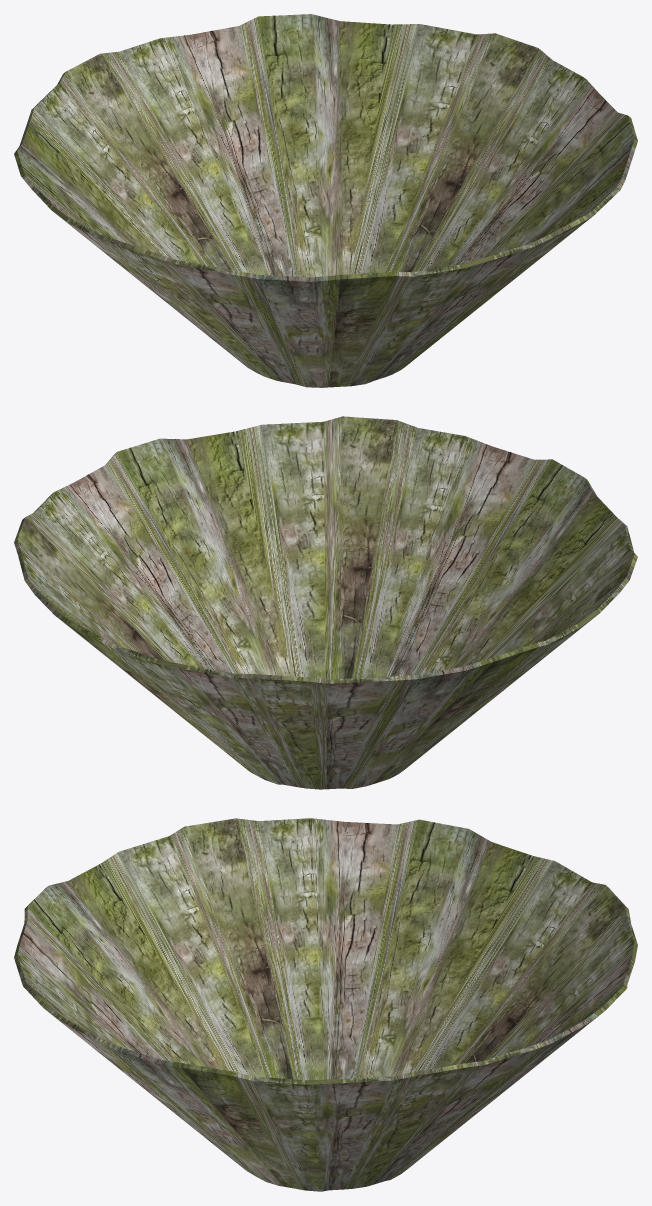
The model's file is SCOPE-RAMP.fbx.
The picture shows the model from 3 angles, top to bottom: view 1: azimuth 30°, elevation 25°; view 2: azimuth 150°, elevation 25°; view 3: azimuth 270°, elevation 25°; orthographic projection.
Visible parts, largest first — view 1: scope_ramp; view 2: scope_ramp; view 3: scope_ramp.
Part boxes in pixels (x1,y1,x2,y2): scope_ramp: [14, 14, 637, 387]; scope_ramp: [14, 416, 637, 789]; scope_ramp: [14, 818, 637, 1191].
Size of the model in its own units: 409 by 152 by 409.
